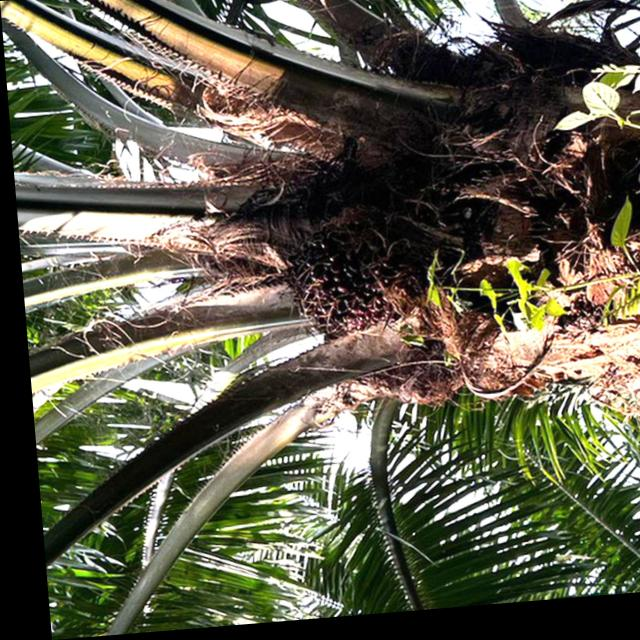unripe: (275, 205, 478, 419)
